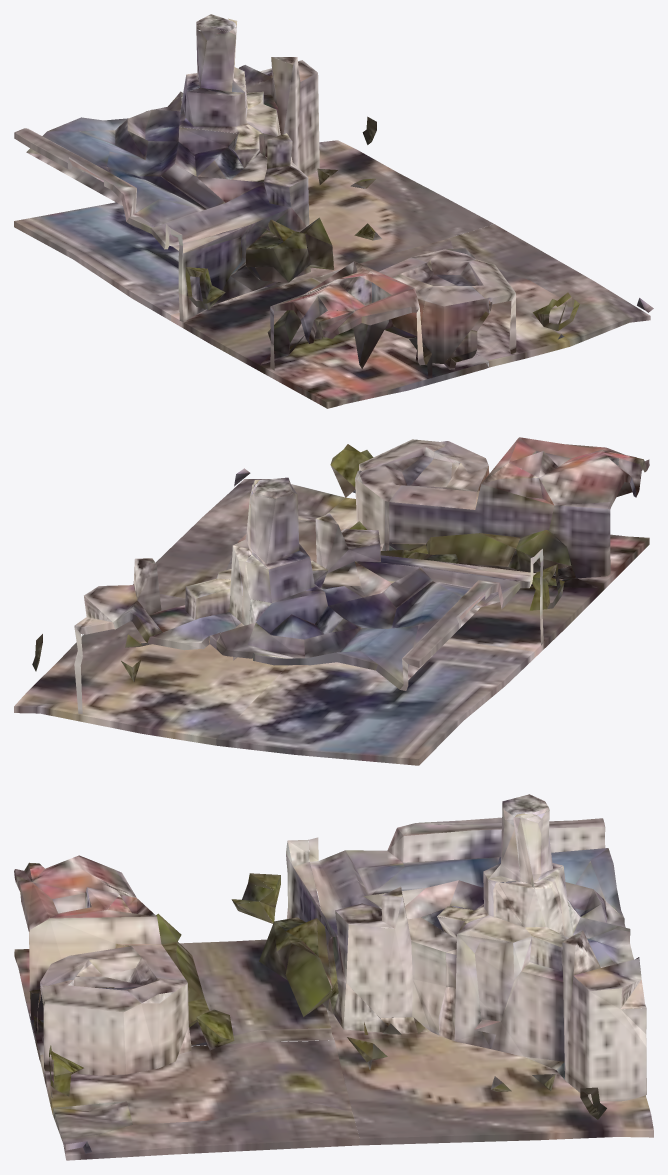
3 renders of one model, top to bottom at view 1: azimuth 30°, elevation 25°; view 2: azimuth 150°, elevation 25°; view 3: azimuth 270°, elevation 25°, orthographic. The views are drawn at different scales.
Visible parts, largest first — view 1: Mesh_0; view 2: Mesh_0; view 3: Mesh_0.
Boxes of the visible parts, <box> form: Mesh_0: <box>14,14,653,408</box>; Mesh_0: <box>14,437,649,765</box>; Mesh_0: <box>14,794,653,1160</box>.
Size of the model in its own units: 134 by 67.05 by 165.
2 materials, 2 textured.
